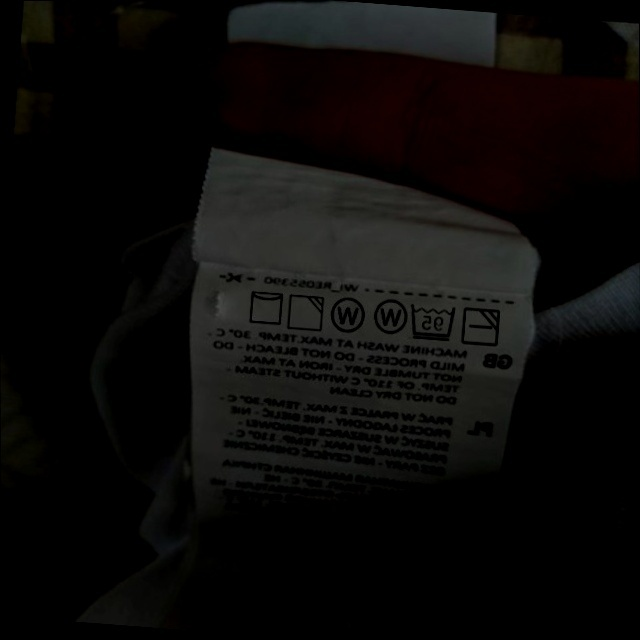95C: (407, 301, 458, 342)
dry_flat_in_shade: (460, 304, 503, 349)
line_dry: (244, 286, 286, 327)
shade_dry: (285, 291, 326, 333)
wet_clean: (370, 294, 408, 337), (328, 295, 367, 336)
